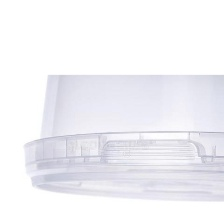plastic_box: (16, 74, 224, 208)
